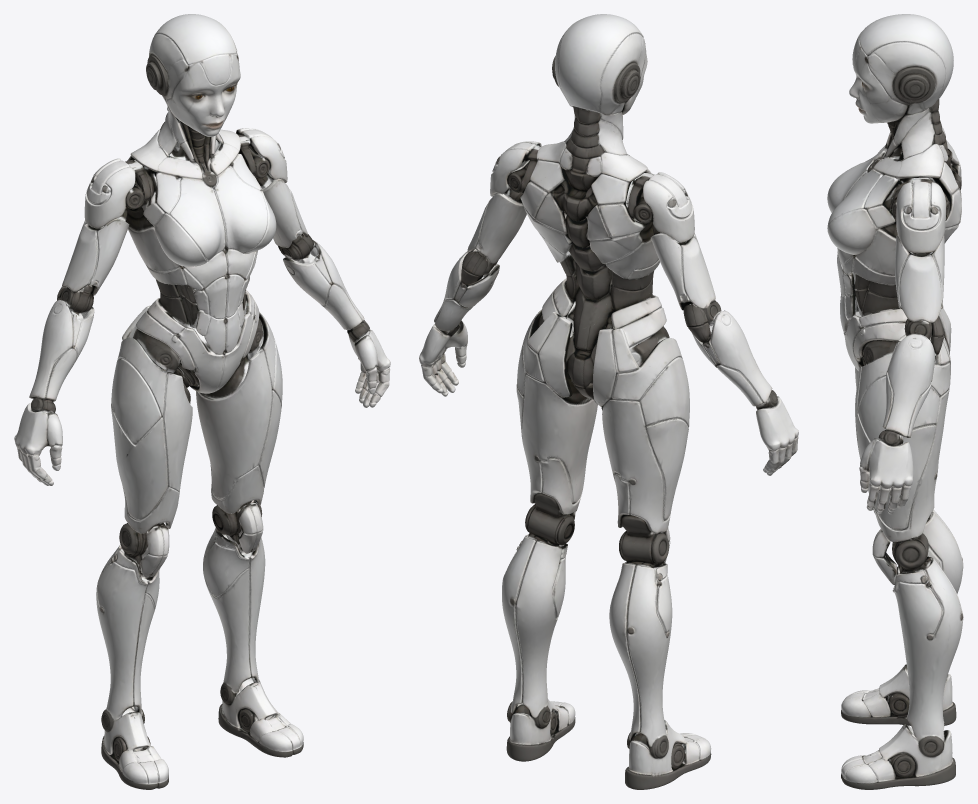
The model's file is android.glb.
The picture shows the model from 3 angles, left to right: view 1: azimuth 30°, elevation 25°; view 2: azimuth 150°, elevation 25°; view 3: azimuth 270°, elevation 25°; orthographic projection.
Visible parts, largest first — view 1: android; view 2: android; view 3: android.
Boxes of the visible parts, x1,y1,x2,y2 form: android: (14,14,390,789); android: (419,14,798,789); android: (827,14,963,789).
Bounding box in the file's own units: 0.9135 × 1.75 × 0.2956.
1 material, 1 textured.
